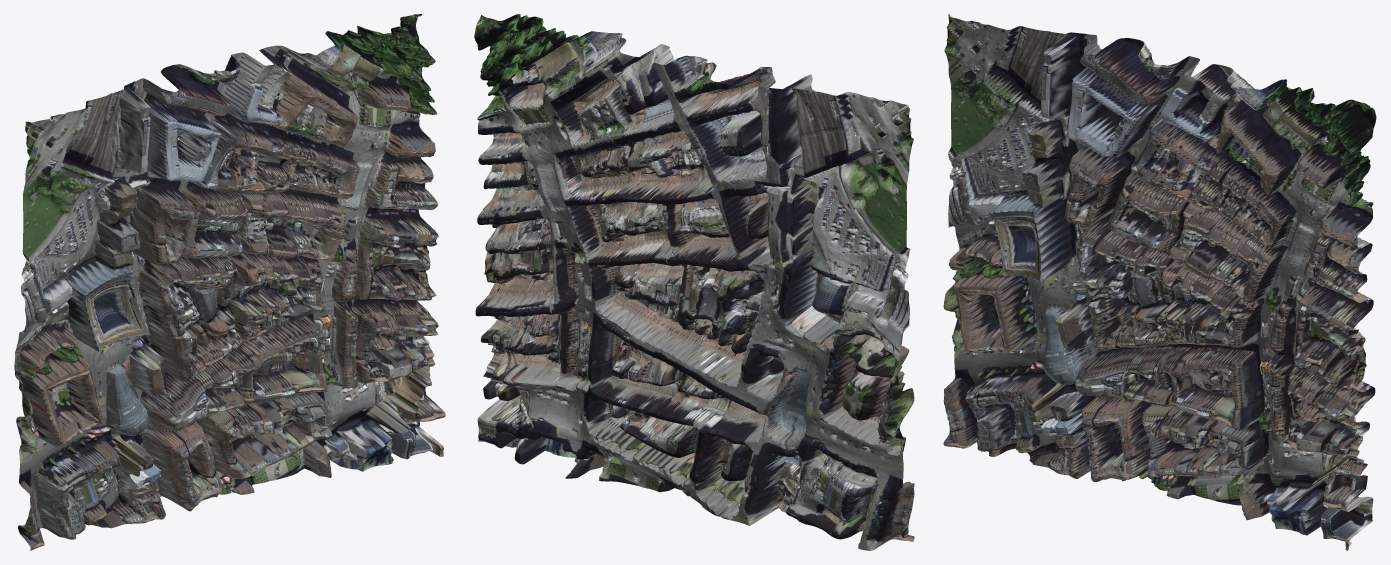
3 renders of one model, left to right at view 1: azimuth 30°, elevation 25°; view 2: azimuth 150°, elevation 25°; view 3: azimuth 330°, elevation 25°, orthographic. The views are drawn at different scales.
Parts seen in each view (by area): view 1: ayama_surface; view 2: ayama_surface; view 3: ayama_surface.
Boxes of the visible parts, left/top/right/bottom form: ayama_surface: left=14, top=14, right=445, bottom=550; ayama_surface: left=474, top=14, right=914, bottom=550; ayama_surface: left=943, top=14, right=1376, bottom=550.
Bounding box in the file's own units: 510 × 510 × 90.96.
1 material, 1 textured.
